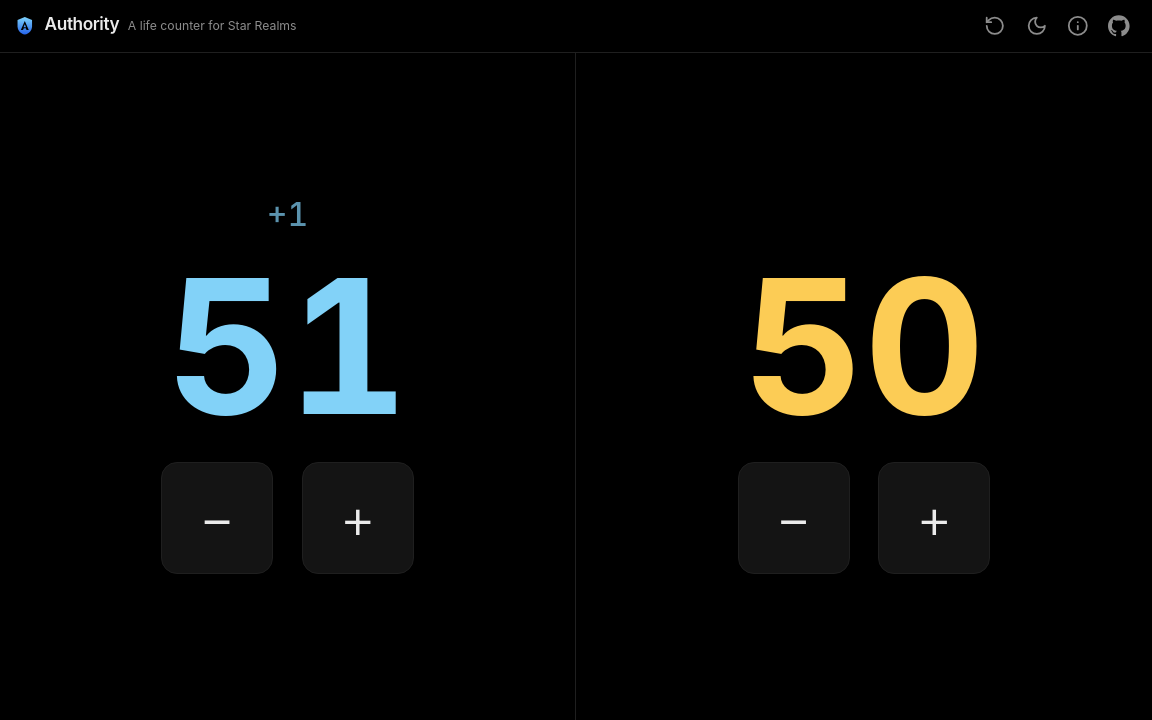
it: AuthorityBoard › adds one per tap and shows the running total
Earlier steps of the test are not shown.
What coordinates should you click on to do the following:
click the button named "Player 1: gain 1 authority"
I would click on:
 (358, 518)
Its box is [302,462,414,574].
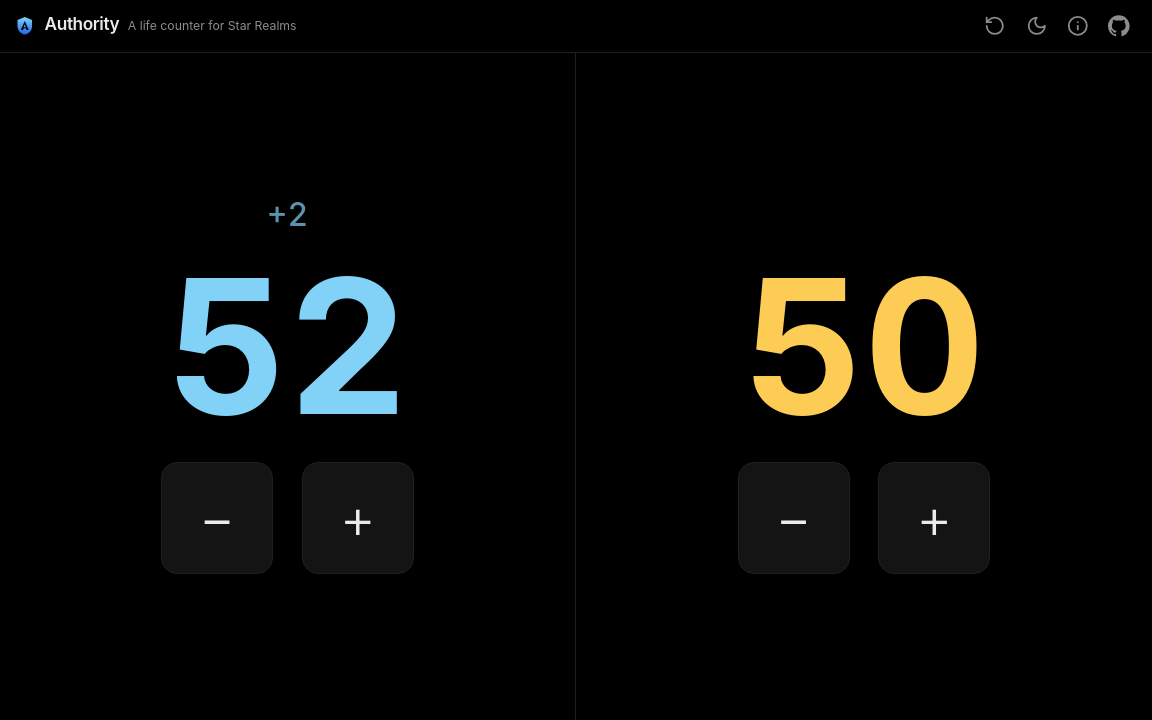
What coordinates should you click on to do the following:
click the button named "Player 1: gain 1 authority"
I would click on:
 (358, 518)
Its box is [302,462,414,574].
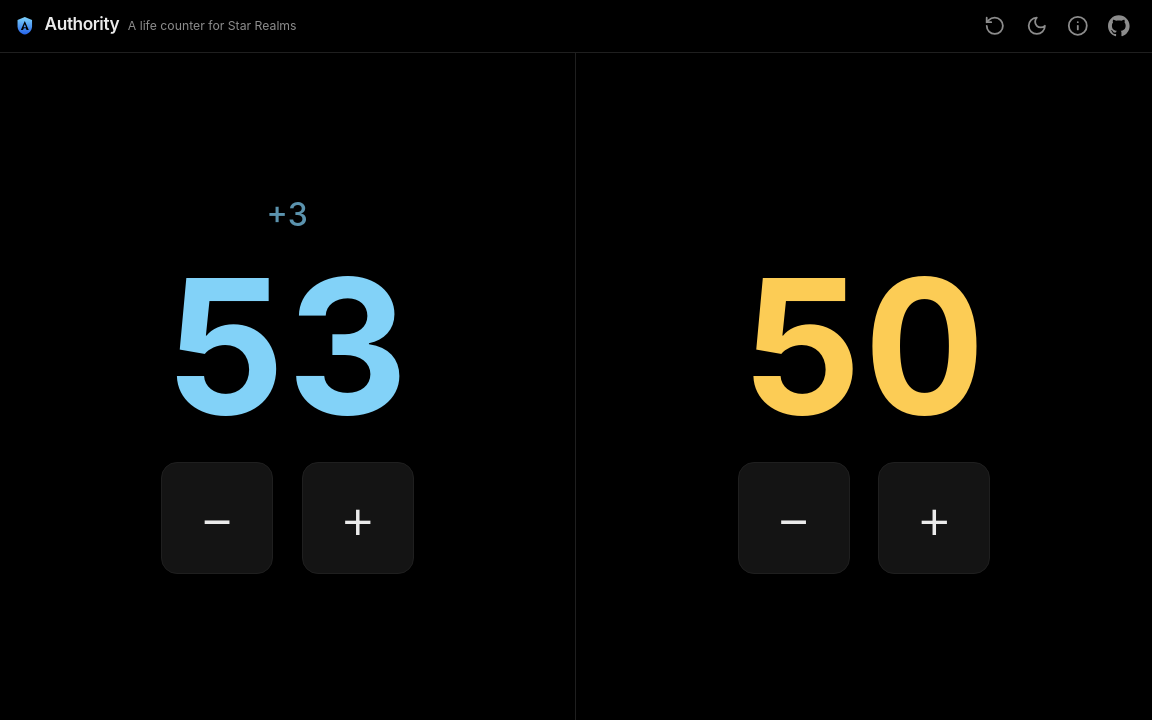
What coordinates should you click on to do the following:
click the button named "Player 1: gain 1 authority"
I would click on:
 (358, 518)
Its box is [302,462,414,574].
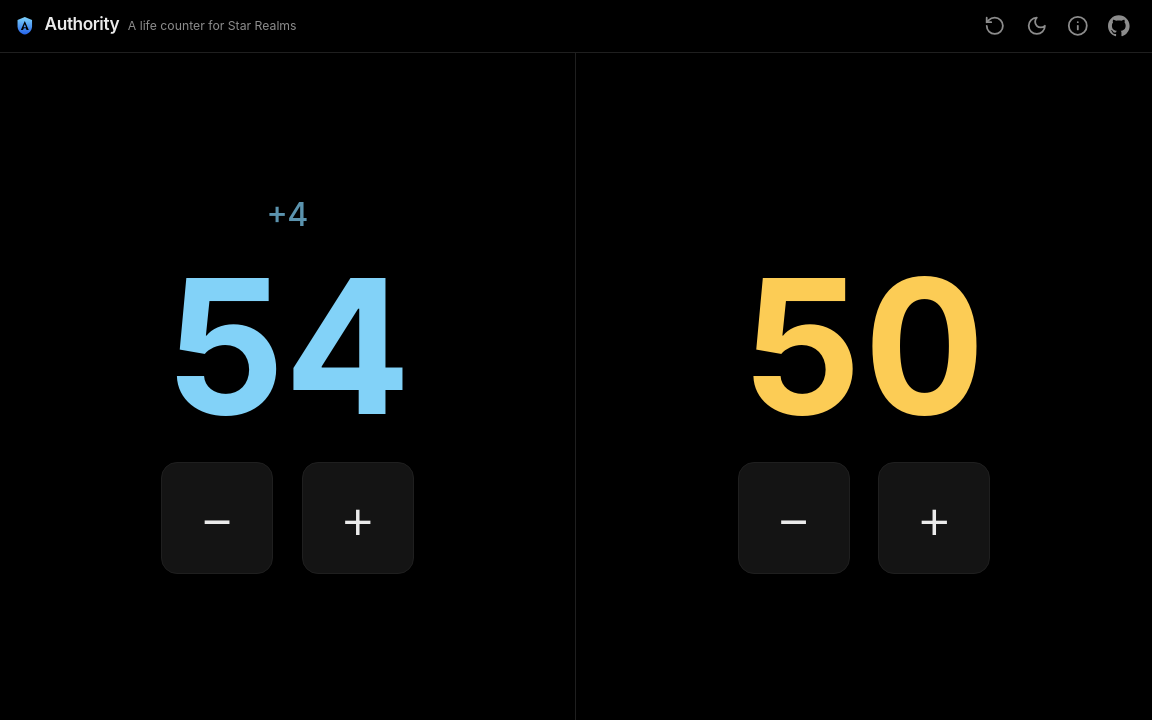
What coordinates should you click on to do the following:
click the button named "Player 1: gain 1 authority"
I would click on:
 (358, 518)
Its box is [302,462,414,574].
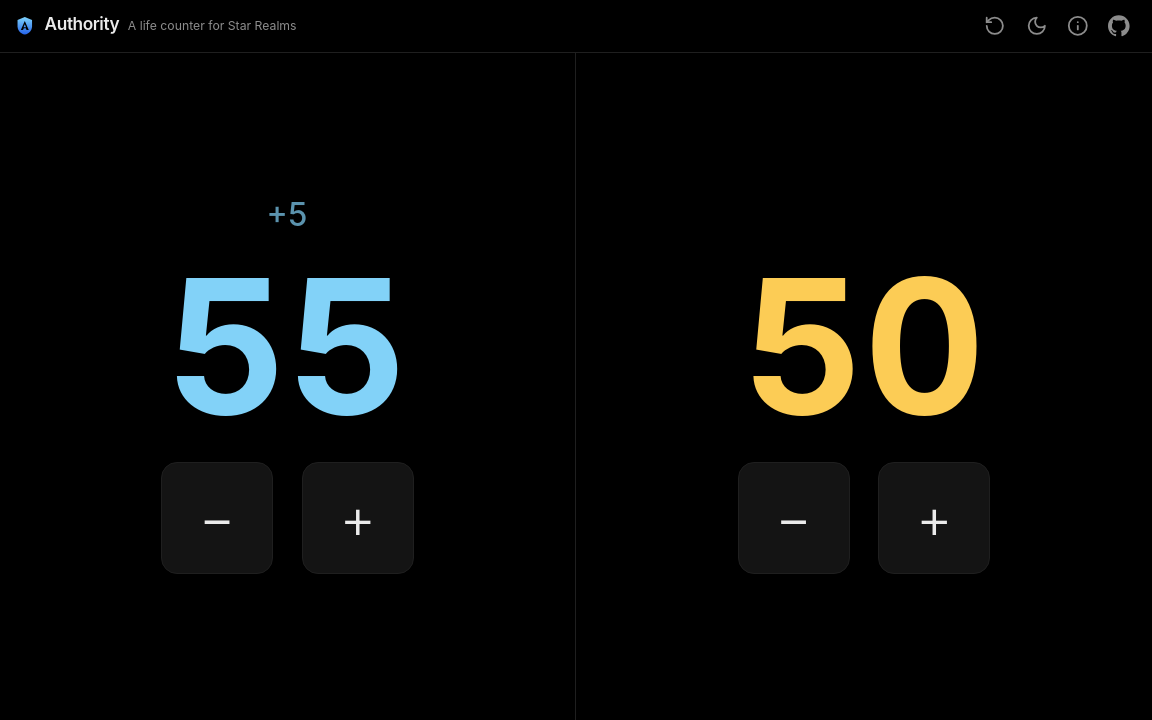
What coordinates should you click on to do the following:
click the button named "Player 1: gain 1 authority"
I would click on:
 (358, 518)
Its box is [302,462,414,574].
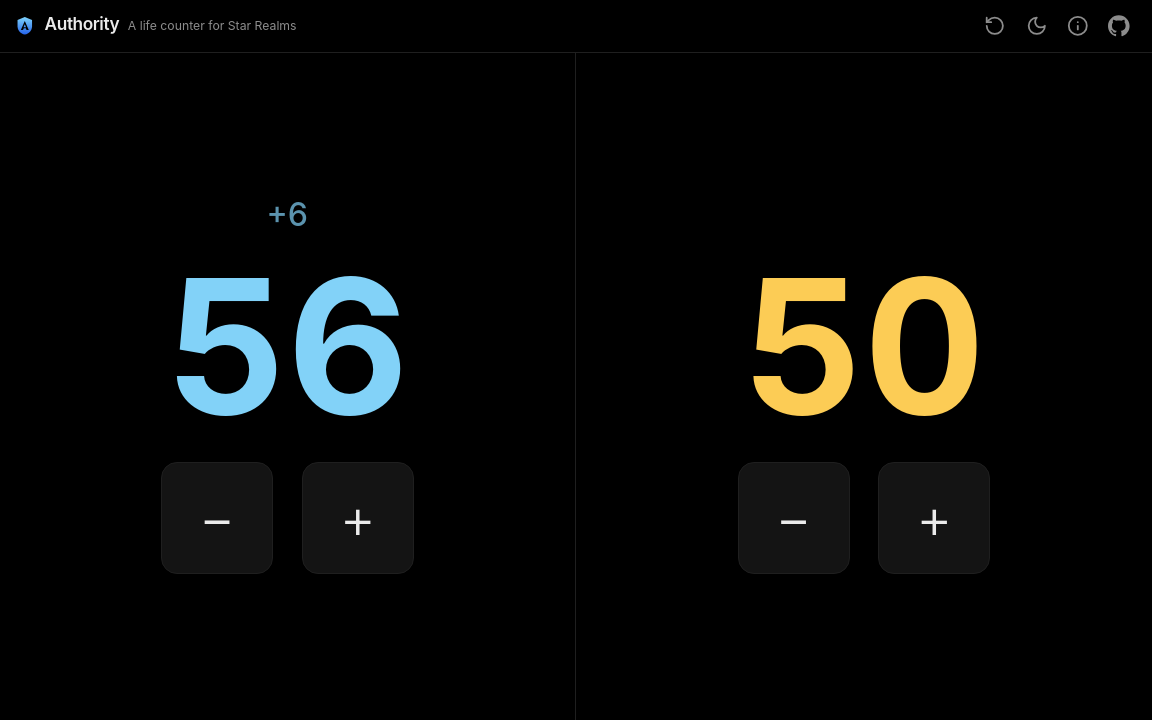
What coordinates should you click on to do the following:
click the button named "Player 1: gain 1 authority"
I would click on:
 (358, 518)
Its box is [302,462,414,574].
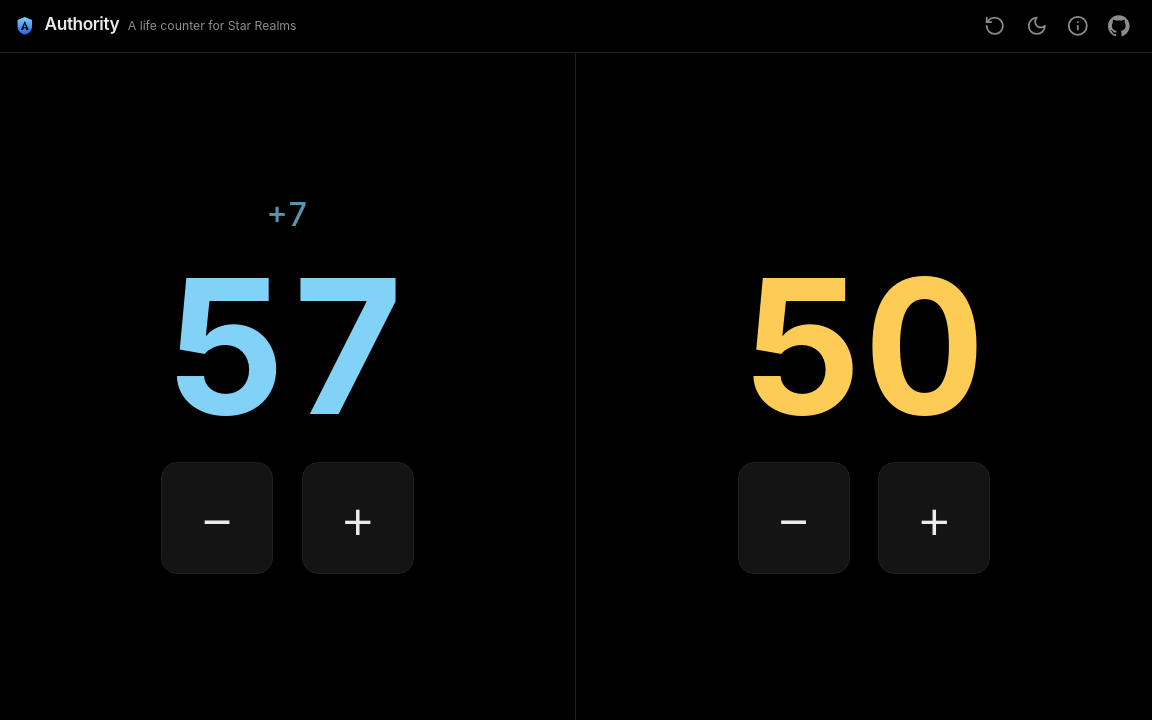
expect the text "50" is shown: met, box [743,253,985,440]
expect the text "57" is shown: met, box [166,253,408,440]
expect the text "+7" is shown: met, box [267,199,308,231]
